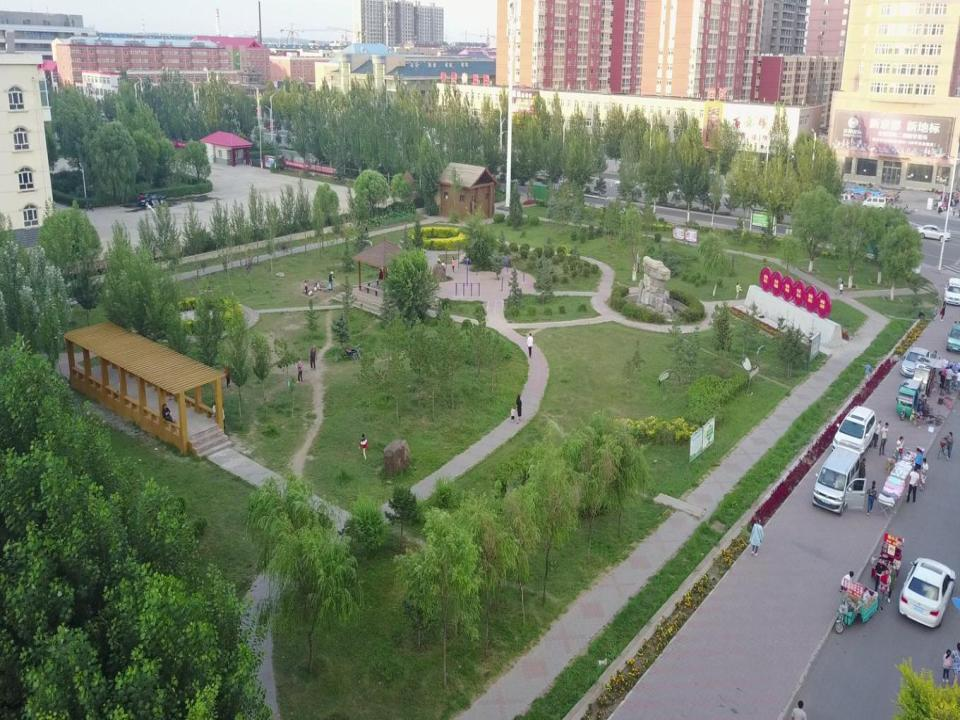car: (898, 556, 956, 628), (831, 406, 876, 456), (900, 346, 942, 378), (915, 224, 951, 242), (944, 277, 960, 306), (137, 194, 165, 206), (615, 177, 635, 190), (874, 420, 882, 448)
van: (812, 443, 865, 516), (946, 323, 960, 352), (862, 197, 886, 210)
